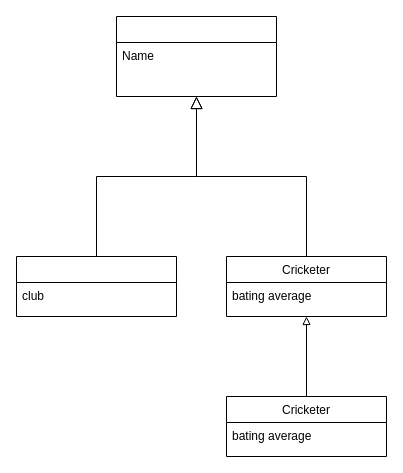
Some shapes in this 403 by 473 pixel diagram are drawn without their labels. The shapes that lost their labels are listed below. From the top down, each one's box as (x1, y1, x2, y2) in pixels, then its label:
(116, 16, 276, 96): Player
(16, 256, 176, 316): Footballer
